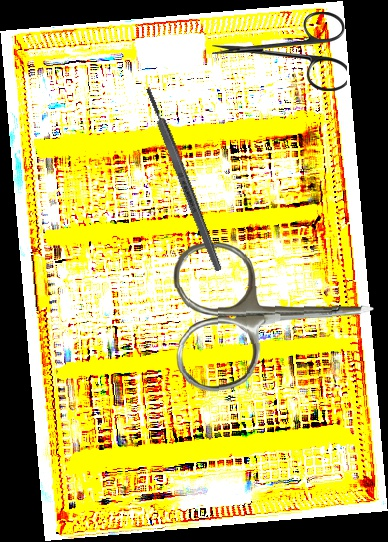Iris Scissors: (171, 236, 379, 393), (212, 12, 347, 91)
Scalpel Handle: (143, 86, 224, 273)
